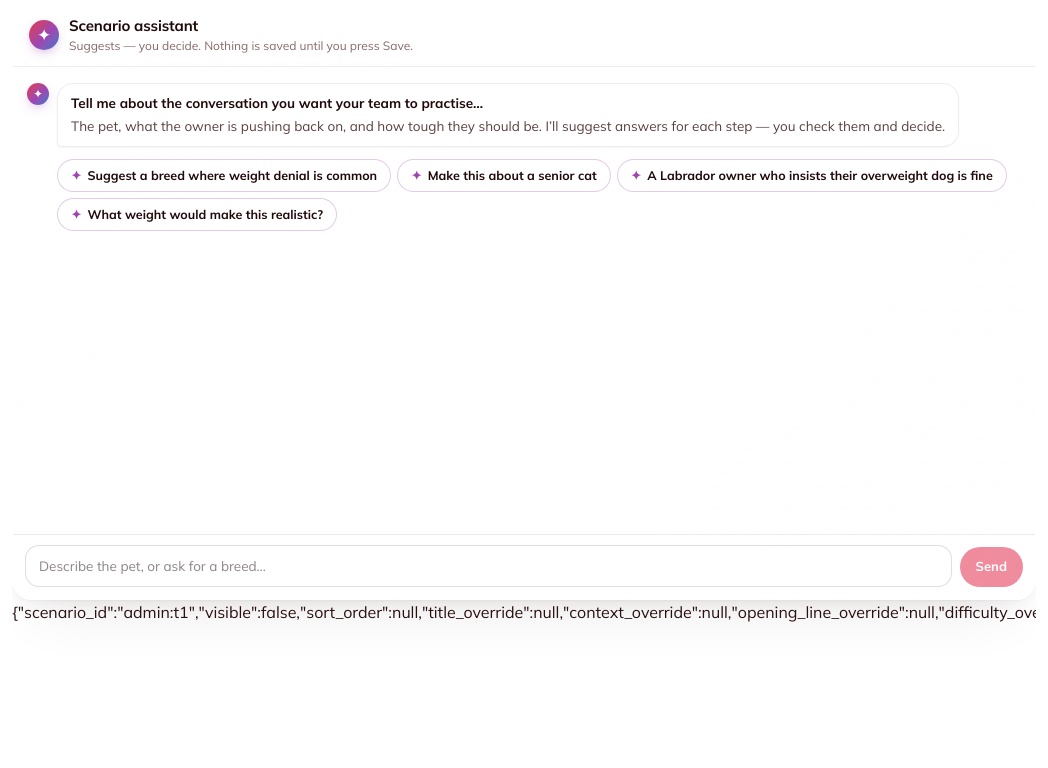
Test case: CopilotPanel › an ask answer applies its field and is sent as the admin’s next message
In the text box named "Message the scenario assistant": (488, 566) [25,545,952,587], type "Help me start"
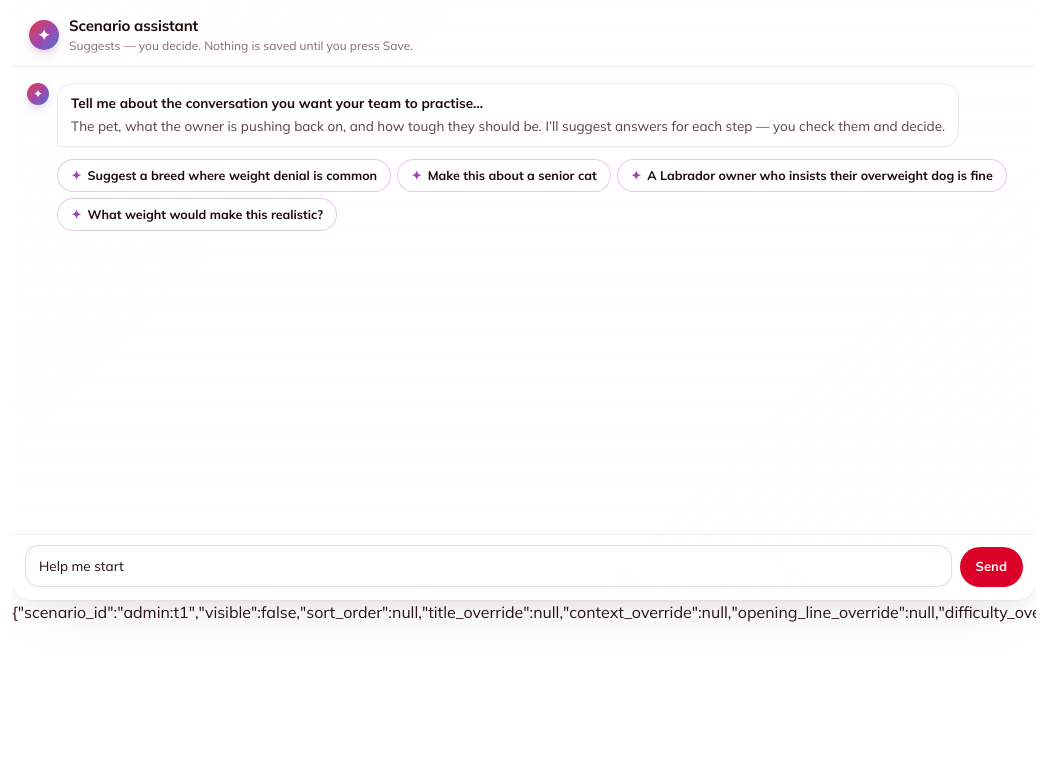
Press Enter in the text box named "Message the scenario assistant", box [25,545,952,587]
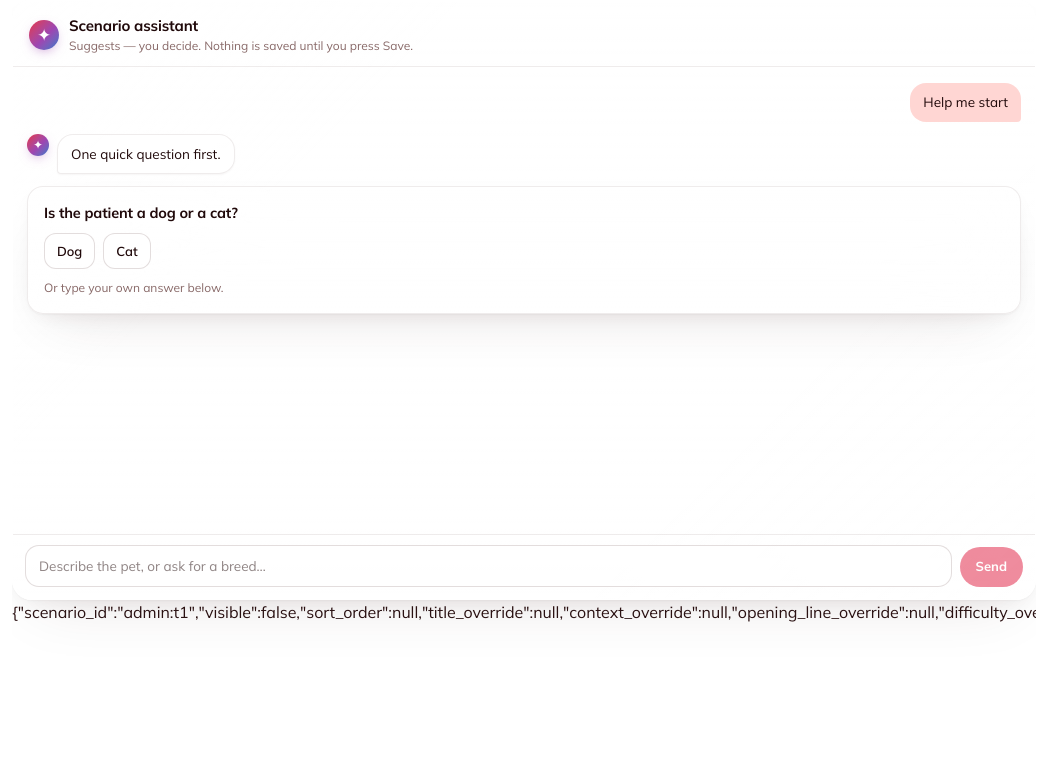
Click the button "Cat": (127, 251) [103,233,151,269]
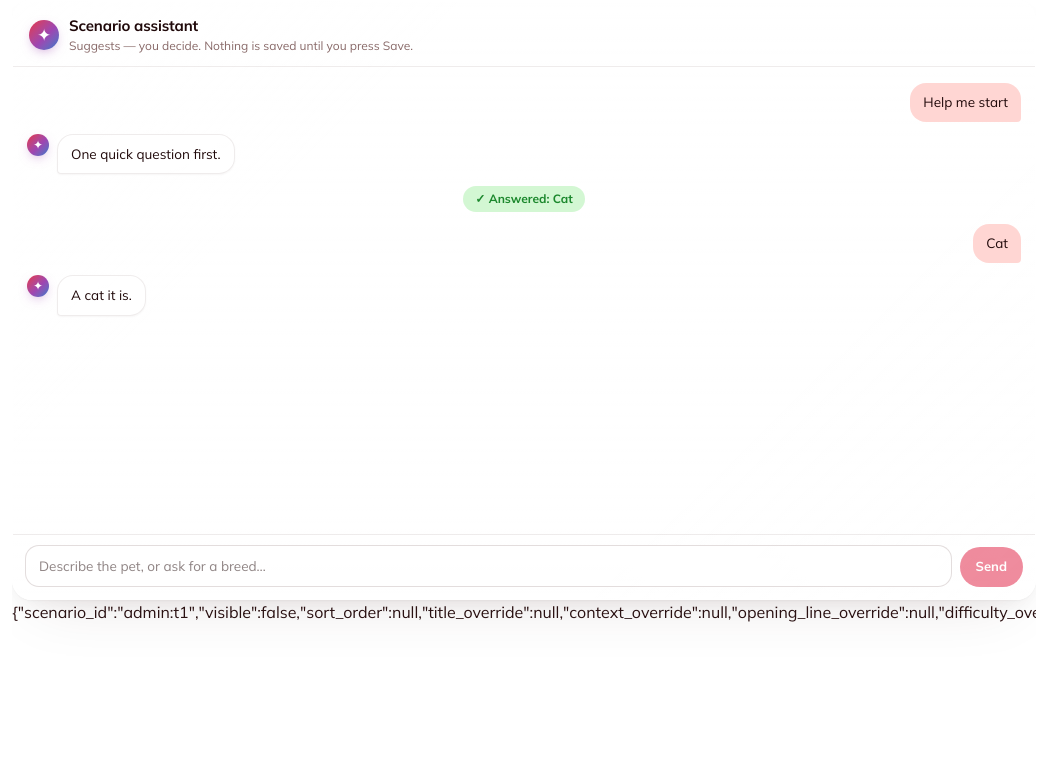
Expected: the text "✓ Answered: Cat" is shown, [463,186,585,212]
Expected: the text "Cat" is shown, [973,224,1021,263]
